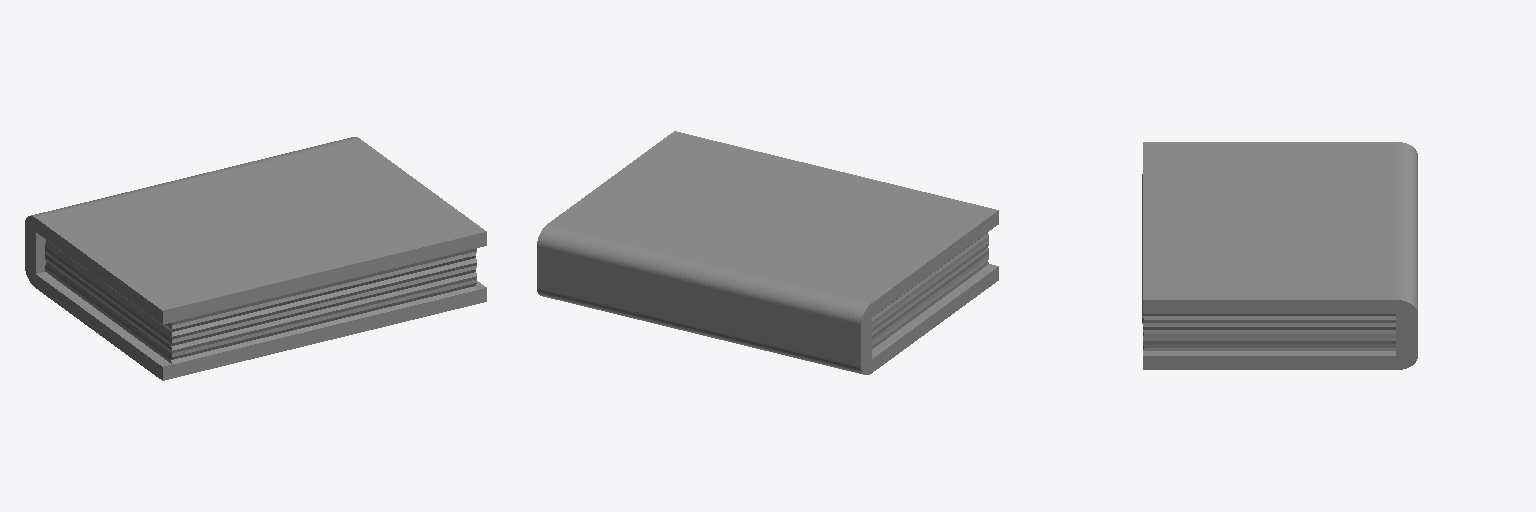
The model's file is ΒΟΟΚ.obj.
The picture shows the model from 3 angles: view 1: azimuth 30°, elevation 25°; view 2: azimuth 150°, elevation 25°; view 3: azimuth 270°, elevation 25°; orthographic projection.
Visible parts, largest first — view 1: obj1; view 2: obj1; view 3: obj1.
Part boxes in pixels (left/top/right/bottom): obj1: left=25, top=137, right=486, bottom=380; obj1: left=537, top=131, right=998, bottom=374; obj1: left=1142, top=142, right=1417, bottom=369.
Size of the model in its own units: 186 by 38.44 by 137.